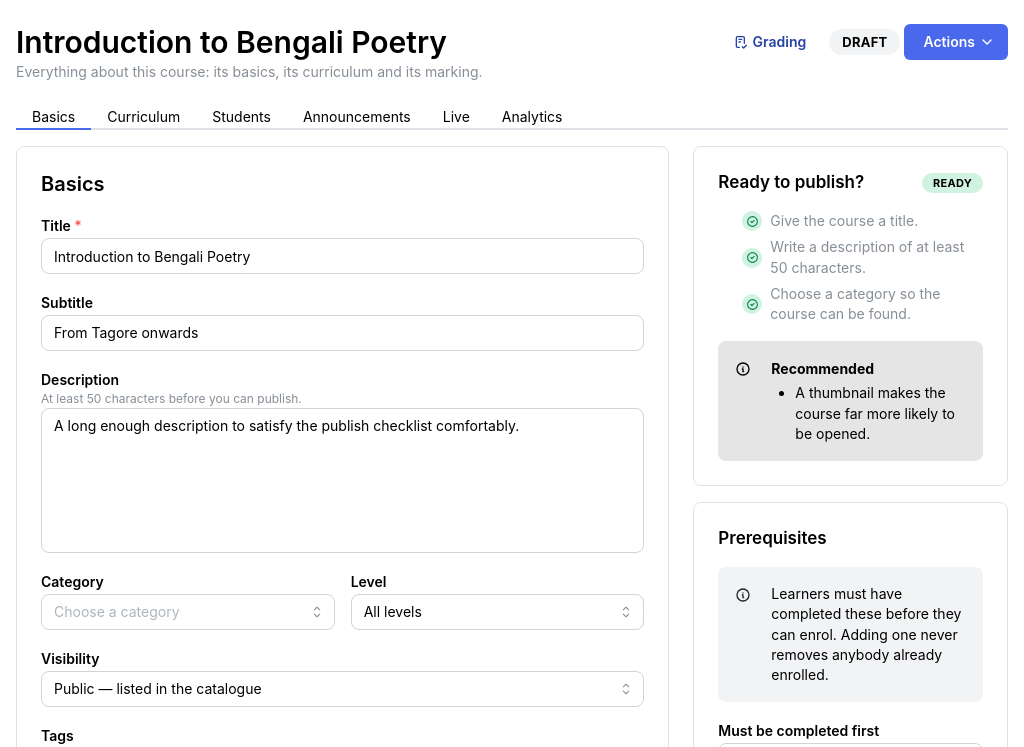
it: CourseEditorRoute › publishes a ready course
The image size is (1024, 747).
What coordinates should you click on to do the following:
click the button "Actions"
I would click on:
 (956, 42)
Its box is [904,24,1008,60].
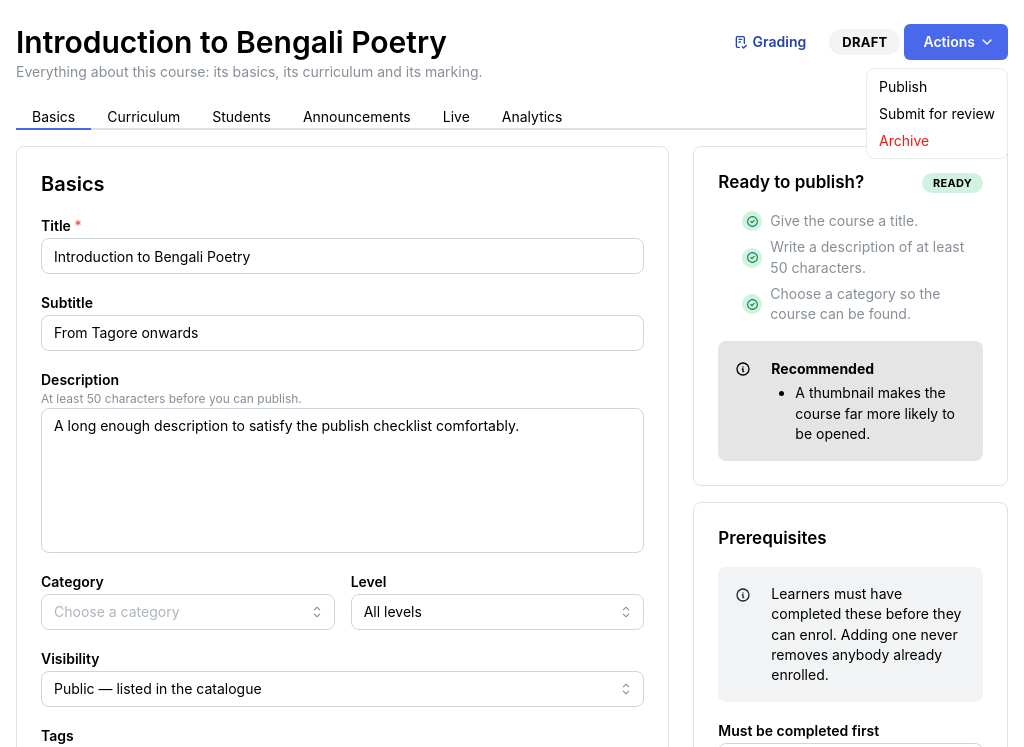
What coordinates should you click on to do the following:
click the menu item "Publish"
I would click on:
 (937, 86)
Its box is [871,73,1003,100].
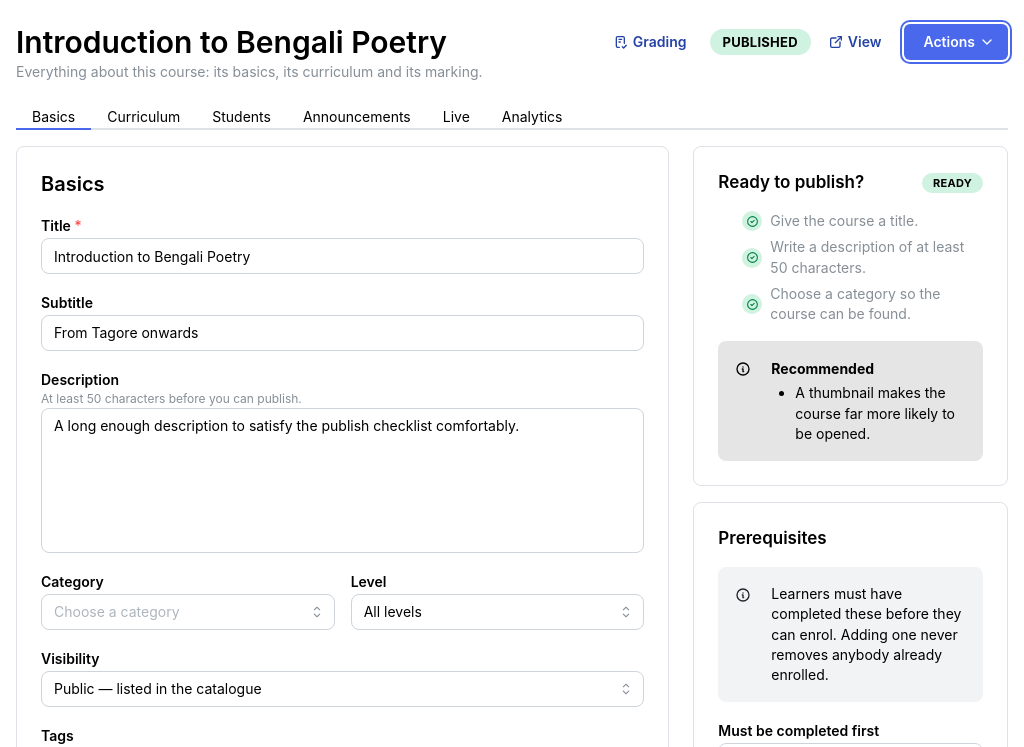
Now the text "Published" is shown, box [722,30,798,54]
